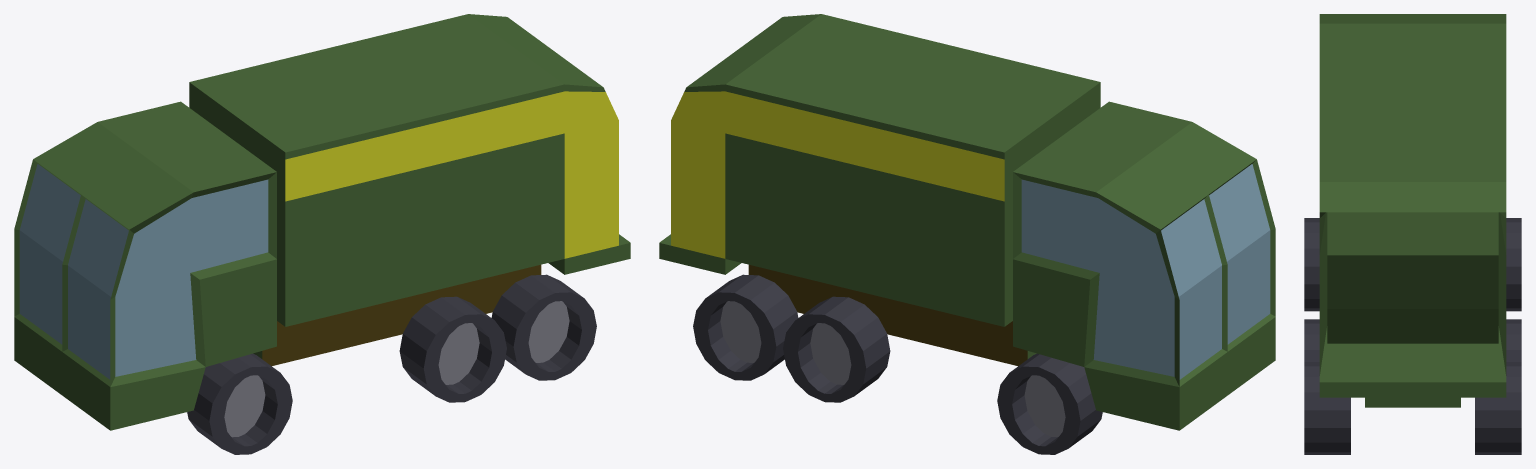
File: garbage-truck.fbx
3 views of the same model, side by side, from view 1: azimuth 30°, elevation 25°; view 2: azimuth 150°, elevation 25°; view 3: azimuth 270°, elevation 25° (orthographic). The views are drawn at different scales.
Parts seen in each view (by area): view 1: Cube, Windows; view 2: Cube, Windows; view 3: Cube.
Part boxes in pixels (<box>): Cube: <box>14,14,630,454</box>; Windows: <box>19,164,268,379</box>; Cube: <box>659,14,1275,454</box>; Windows: <box>1021,164,1270,379</box>; Cube: <box>1304,14,1521,454</box>.
Size of the model in its own units: 624 by 328 by 233.
2 materials, 2 textured.
